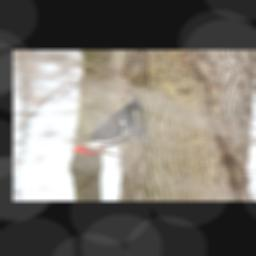Woodpecker: (71, 90, 156, 157)
